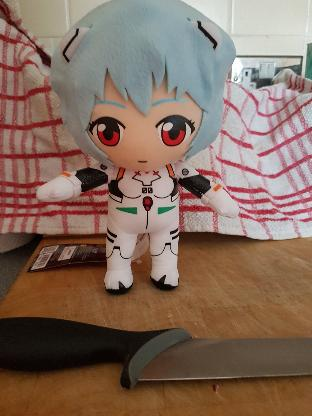rei-plush: (41, 0, 245, 304)
